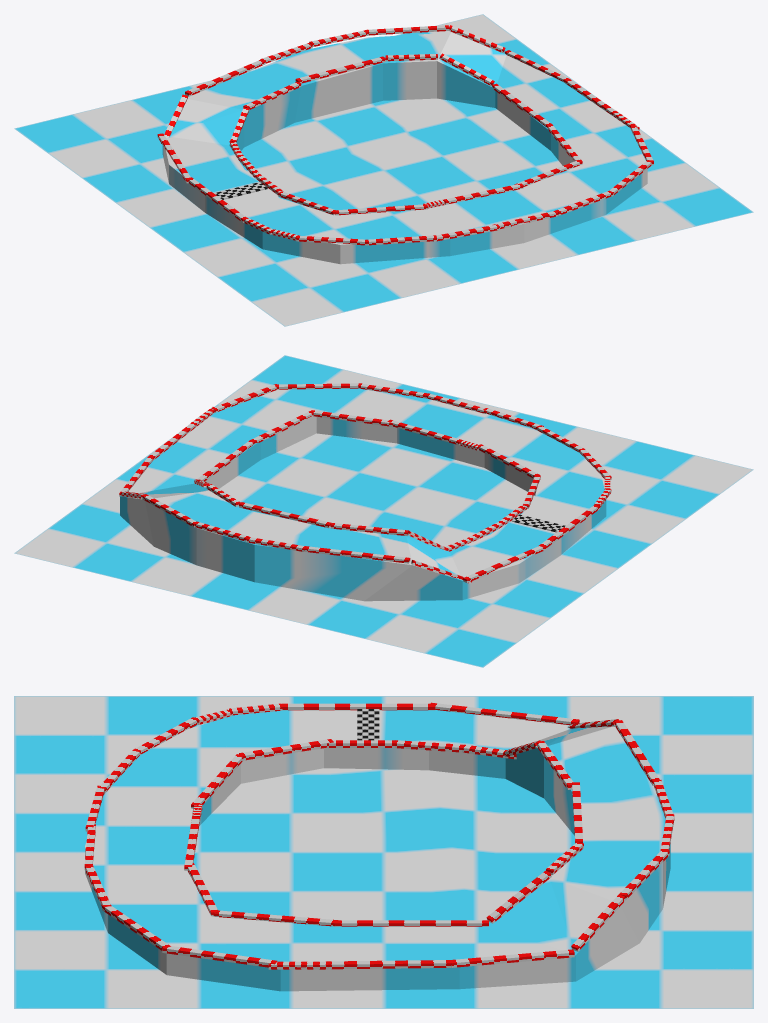
The model's file is hilltest_2.fbx.
3 views of the same model, one above another, from view 1: azimuth 30°, elevation 25°; view 2: azimuth 150°, elevation 25°; view 3: azimuth 270°, elevation 25° (orthographic). The views are drawn at different scales.
Parts seen in each view (by area): view 1: Plane, solid_rail.009, solid_rail.007, solid_rail.026, solid_rail.013; view 2: Plane, solid_rail.007, solid_rail.009, solid_rail.001, solid_rail.023; view 3: Plane, solid_rail, solid_rail.017, solid_rail.016, solid_rail.018, solid_rail.001, solid_rail.021, solid_rail.019, solid_rail.027, startline, solid_rail.015, solid_rail.007 (+10 smaller).
Boxes of the visible parts, bbox=[...] form: Plane: bbox=[14, 14, 753, 326]; solid_rail.009: bbox=[295, 56, 385, 83]; solid_rail.007: bbox=[185, 59, 265, 96]; solid_rail.026: bbox=[335, 204, 427, 215]; solid_rail.013: bbox=[365, 25, 449, 35]; Plane: bbox=[14, 355, 753, 667]; solid_rail.007: bbox=[305, 546, 410, 563]; solid_rail.009: bbox=[239, 502, 331, 528]; solid_rail.001: bbox=[463, 545, 546, 582]; solid_rail.023: bbox=[310, 410, 392, 426]; Plane: bbox=[14, 696, 753, 1008]; solid_rail: bbox=[281, 703, 435, 710]; solid_rail.017: bbox=[451, 949, 574, 967]; solid_rail.016: bbox=[335, 920, 488, 926]; solid_rail.018: bbox=[326, 960, 451, 969]; solid_rail.001: bbox=[430, 702, 579, 724]; solid_rail.021: bbox=[162, 946, 277, 967]; solid_rail.019: bbox=[213, 910, 337, 926]; solid_rail.027: bbox=[239, 739, 333, 760]; startline: bbox=[357, 709, 379, 740]; solid_rail.015: bbox=[486, 870, 551, 923]; solid_rail.007: bbox=[614, 720, 659, 785].
Size of what is drawn, in the model's own units: 2000 by 176 by 2000.
3 materials, 3 textured.
